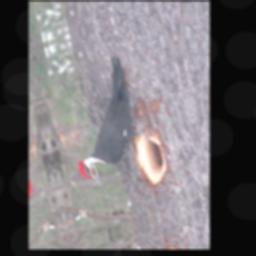Woodpecker: (57, 49, 160, 194)
